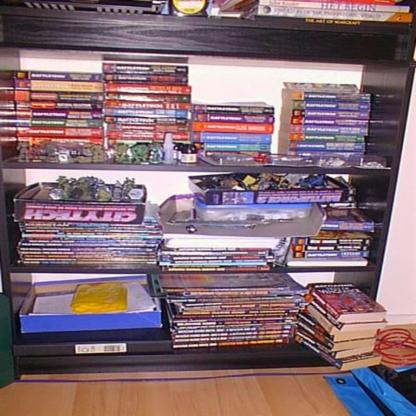book: (8, 176, 160, 267), (152, 264, 308, 350), (164, 179, 304, 265), (91, 63, 188, 156), (0, 70, 100, 152), (291, 288, 398, 364), (275, 79, 368, 164), (284, 200, 368, 263), (195, 102, 270, 160), (248, 0, 412, 20)
